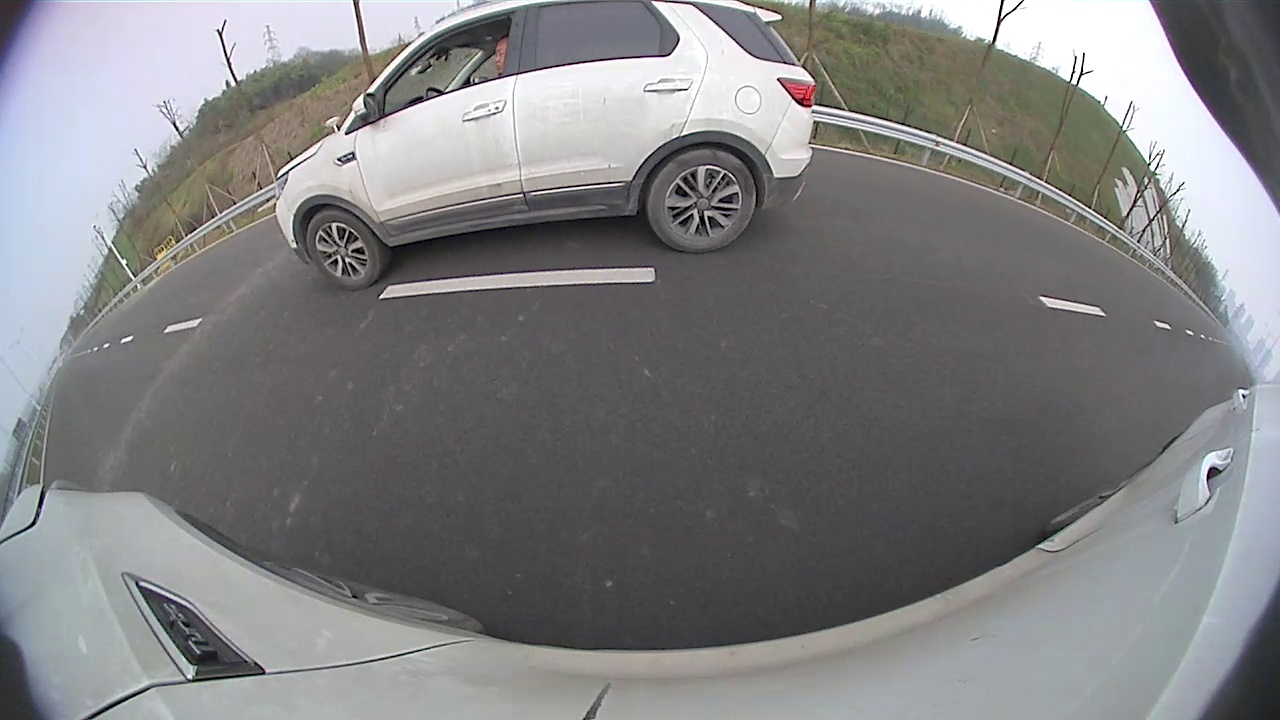car: (276, 2, 817, 290)
front: (304, 210, 384, 289)
rear: (645, 147, 759, 253)
